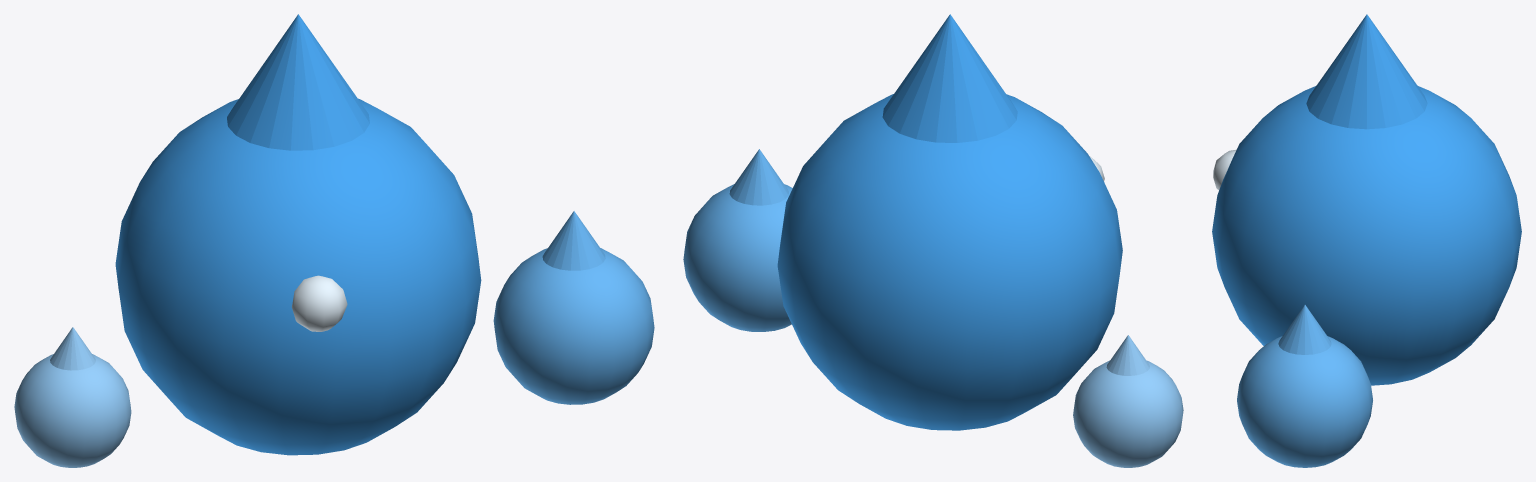
File: water.glb
3 renders of one model, left to right at view 1: azimuth 30°, elevation 25°; view 2: azimuth 150°, elevation 25°; view 3: azimuth 270°, elevation 25°, orthographic. The views are drawn at different scales.
Visible parts, largest first — view 1: water; view 2: water; view 3: water.
Boxes of the visible parts, x1=… form: water: x1=14, y1=14, x2=654, y2=467; water: x1=683, y1=14, x2=1183, y2=467; water: x1=1212, y1=14, x2=1521, y2=467.
Size of the model in its own units: 1.78 by 1.27 by 1.
